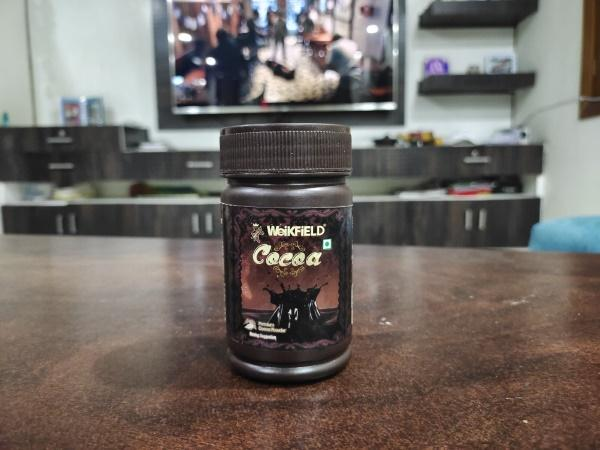Cocoa Powder: (213, 118, 366, 392)
